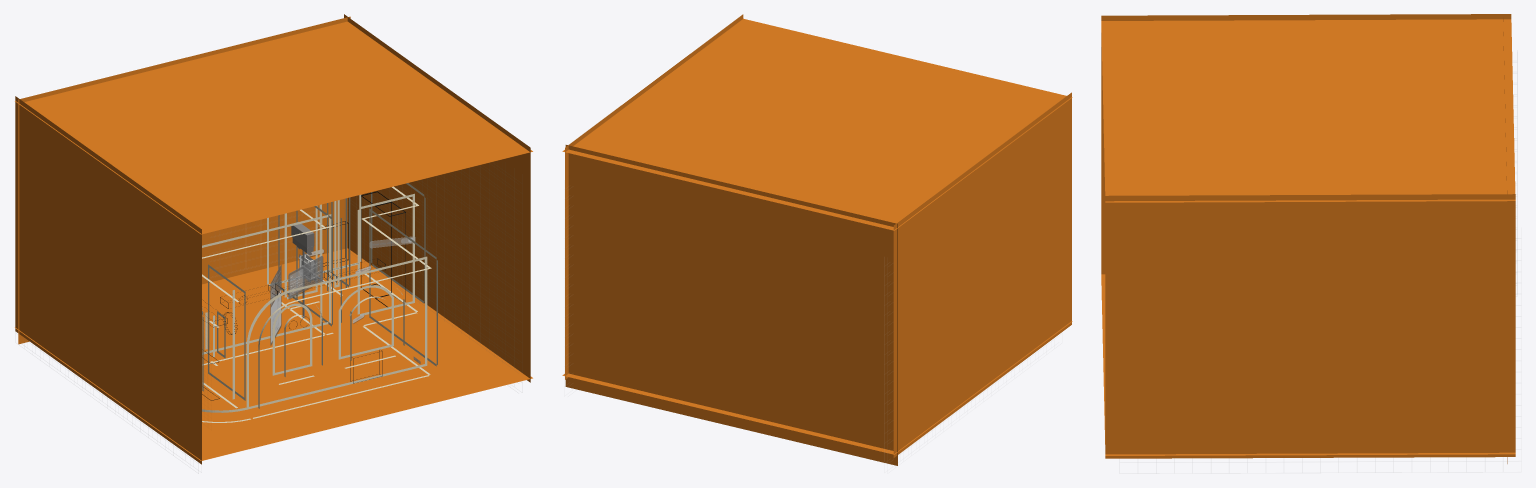
Rendered from roomLeft.glb.
3 renders of one model, left to right at view 1: azimuth 30°, elevation 25°; view 2: azimuth 150°, elevation 25°; view 3: azimuth 270°, elevation 25°, orthographic. The views are drawn at different scales.
Parts seen in each view (by area): view 1: Plane.027, Plane.026, Plane.028, Plane.025, posta_v1.005, Plane.024, prices, description2, Cube.012; view 2: Plane.024, Plane.027, Plane.026, Plane.025, Plane.028; view 3: Plane.025, Plane.027, Plane.026, Plane.028.
Boxes of the visible parts, x1=… form: Plane.027: x1=15, y1=21, x2=532, y2=234; Plane.026: x1=15, y1=96, x2=201, y2=464; Plane.028: x1=15, y1=248, x2=532, y2=460; Plane.025: x1=344, y1=14, x2=530, y2=382; posta_v1.005: x1=202, y1=183, x2=437, y2=422; Plane.024: x1=18, y1=16, x2=350, y2=344; prices: x1=288, y1=256, x2=323, y2=299; description2: x1=270, y1=264, x2=281, y2=345; Cube.012: x1=291, y1=221, x2=314, y2=255; Plane.024: x1=565, y1=145, x2=897, y2=465; Plane.027: x1=562, y1=18, x2=1072, y2=230; Plane.026: x1=893, y1=92, x2=1071, y2=457; Plane.025: x1=565, y1=14, x2=743, y2=379; Plane.028: x1=562, y1=321, x2=1072, y2=454; Plane.025: x1=1105, y1=194, x2=1515, y2=458; Plane.027: x1=1101, y1=19, x2=1515, y2=202; Plane.026: x1=1101, y1=14, x2=1511, y2=274; Plane.028: x1=1101, y1=274, x2=1515, y2=455.
Size of the model in its own units: 49.3 by 35.54 by 47.63.
36 materials, 18 textured.
